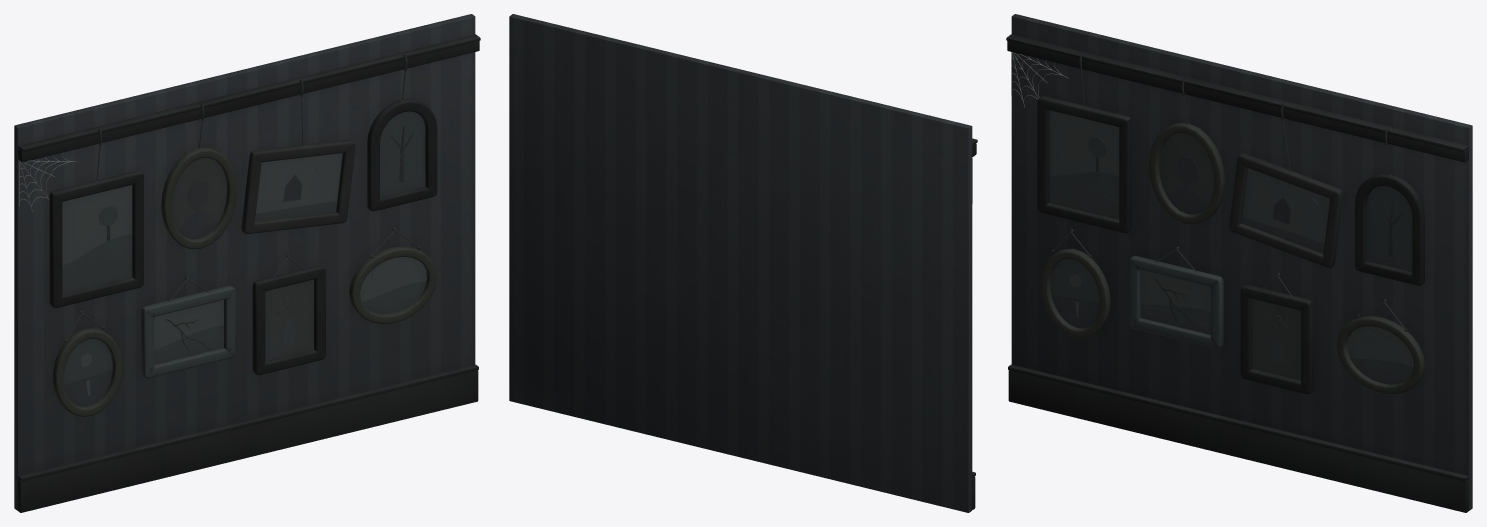
The model's file is haunted-photo-wall.glb.
3 renders of one model, left to right at view 1: azimuth 30°, elevation 25°; view 2: azimuth 150°, elevation 25°; view 3: azimuth 330°, elevation 25°, orthographic.
Visible parts, largest first — view 1: haunted-photo-wall_body; view 2: haunted-photo-wall_body; view 3: haunted-photo-wall_body.
Part boxes in pixels (<box>): haunted-photo-wall_body: <box>14,14,480,512</box>; haunted-photo-wall_body: <box>509,14,977,512</box>; haunted-photo-wall_body: <box>1006,14,1472,512</box>.
Bounding box in the file's own units: 1.5 × 1.2 × 0.0648.
2 materials, 1 textured.
